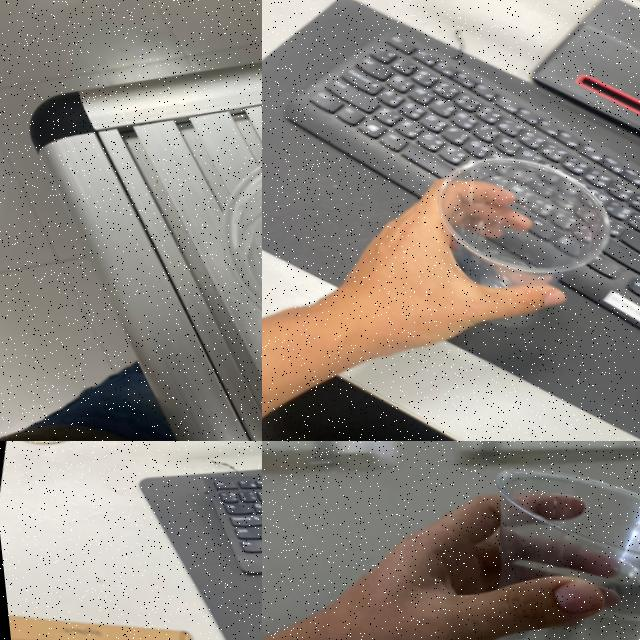glass: (393, 134, 634, 357), (429, 450, 640, 640), (176, 113, 262, 390)
